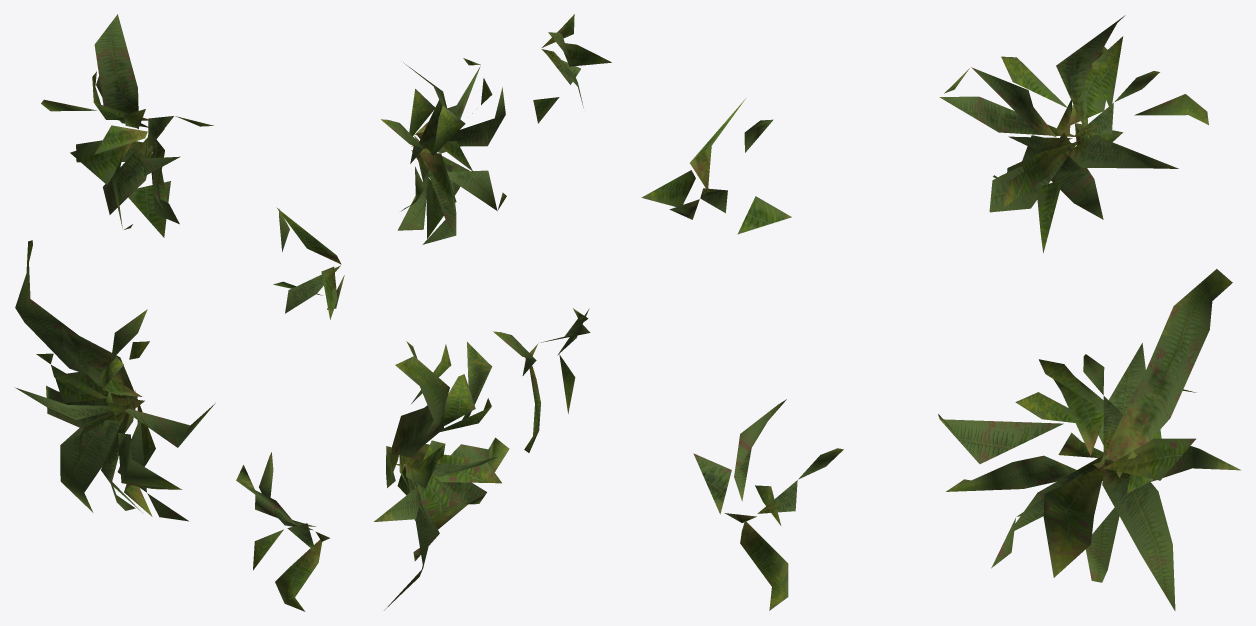
File: fern-leaf.glb
The picture shows the model from 3 angles, left to right: view 1: azimuth 30°, elevation 25°; view 2: azimuth 150°, elevation 25°; view 3: azimuth 270°, elevation 25°; orthographic projection. The views are drawn at different scales.
Visible parts, largest first — view 1: fern-leaf; view 2: fern-leaf; view 3: fern-leaf.
Boxes of the visible parts, <box> form: fern-leaf: <box>15,14,344,611</box>; fern-leaf: <box>374,14,611,610</box>; fern-leaf: <box>641,15,1240,610</box>.
Bounding box in the file's own units: 0.2918 × 1 × 0.9075.
Materials: 1 (1 with a texture image).
